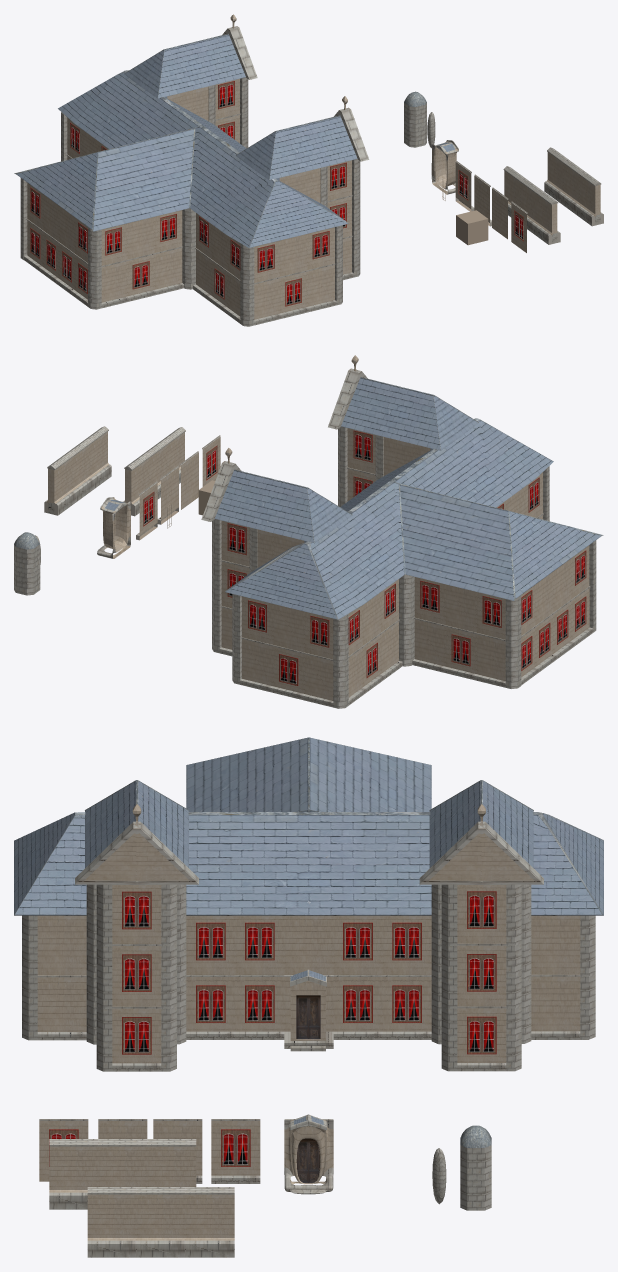
File: ManorWallCorner.fbx
The picture shows the model from 3 angles, top to bottom: view 1: azimuth 30°, elevation 25°; view 2: azimuth 150°, elevation 25°; view 3: azimuth 270°, elevation 25°; orthographic projection. The views are drawn at different scales.
Visible parts, largest first — view 1: Cube.006, Cube.010, Cube.009, Cube.011, Cube.005, Cube, Cube.003, Cube.001, Cube.007, Cube.002; view 2: Cube.006, Cube.010, Cube.009, Cube.005, Cube.011, Cube.003, Cube.002, Cube.001, Cube.007; view 3: Cube.006, Cube.010, Cube.009, Cube.005, Cube.003, Cube.011, Cube.007, Cube.002, Cube.001.
Boxes of the visible parts, bbox=[...] form: Cube.006: bbox=[14, 14, 369, 326]; Cube.010: bbox=[544, 147, 603, 226]; Cube.009: bbox=[503, 166, 560, 244]; Cube.011: bbox=[404, 91, 426, 147]; Cube.005: bbox=[431, 140, 458, 194]; Cube: bbox=[456, 210, 488, 245]; Cube.003: bbox=[455, 160, 474, 211]; Cube.001: bbox=[492, 187, 508, 239]; Cube.007: bbox=[511, 201, 527, 252]; Cube.002: bbox=[474, 174, 491, 226]; Cube.006: bbox=[201, 355, 603, 708]; Cube.010: bbox=[44, 426, 111, 515]; Cube.009: bbox=[123, 427, 185, 516]; Cube.005: bbox=[97, 497, 130, 558]; Cube.011: bbox=[14, 532, 40, 595]; Cube.003: bbox=[136, 481, 157, 540]; Cube.002: bbox=[157, 465, 178, 524]; Cube.001: bbox=[180, 451, 198, 509]; Cube.007: bbox=[202, 435, 220, 486]; Cube.006: bbox=[14, 737, 603, 1071]; Cube.010: bbox=[87, 1187, 234, 1257]; Cube.009: bbox=[49, 1139, 196, 1209]; Cube.005: bbox=[284, 1114, 333, 1194]; Cube.003: bbox=[211, 1119, 260, 1183]; Cube.011: bbox=[460, 1125, 491, 1210]; Cube.007: bbox=[39, 1119, 88, 1181]; Cube.002: bbox=[153, 1119, 202, 1183]; Cube.001: bbox=[98, 1119, 147, 1138].
Bounding box in the file's own units: 4665 × 1631 × 3223.
6 materials, 6 textured.
